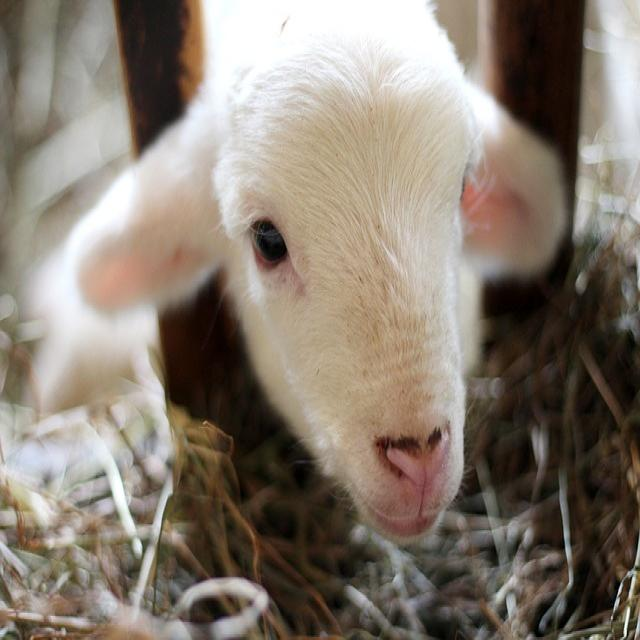goat: (63, 14, 572, 550)
